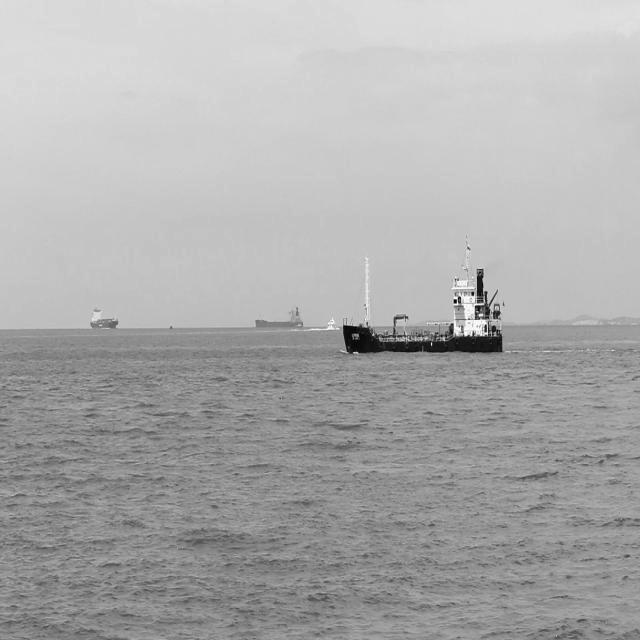ship: (338, 232, 506, 356), (255, 299, 306, 333), (89, 301, 120, 329), (325, 312, 340, 332)
